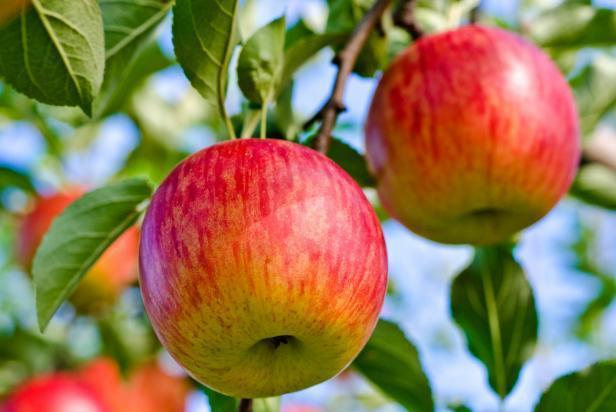apple: (139, 140, 395, 394), (365, 24, 580, 251)
